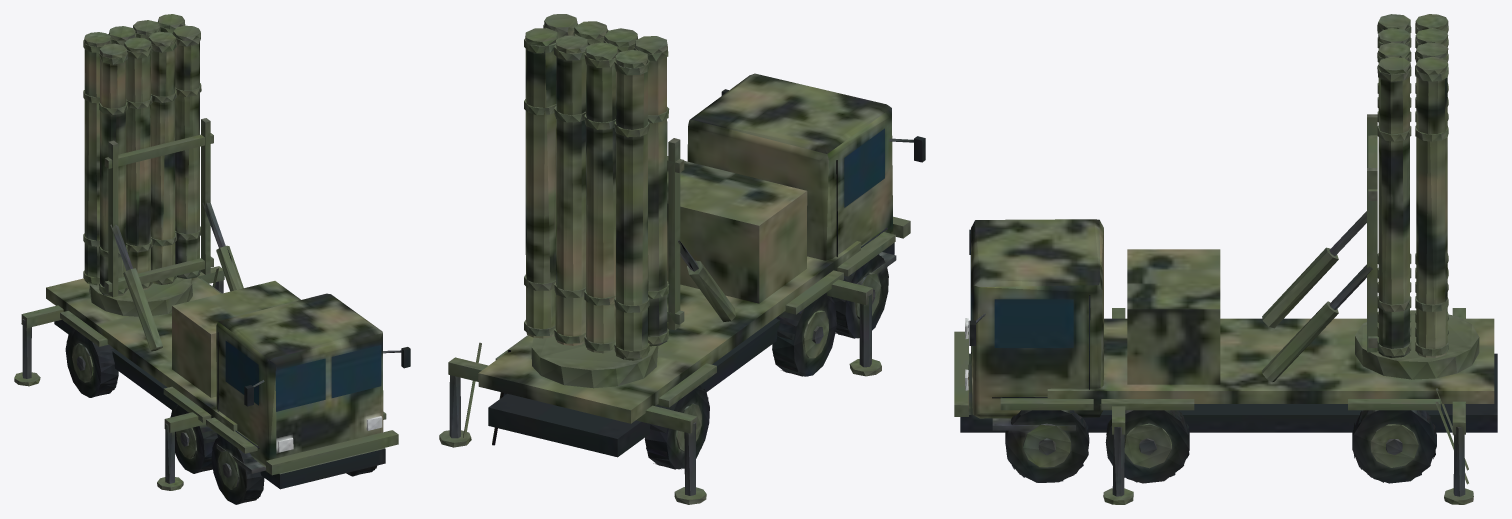
File: tower_aa_3.glb
3 views of the same model, side by side, from view 1: azimuth 30°, elevation 25°; view 2: azimuth 150°, elevation 25°; view 3: azimuth 270°, elevation 25° (orthographic). The views are drawn at different scales.
Visible parts, largest first — view 1: LOW; view 2: LOW; view 3: LOW.
Part boxes in pixels (<box>): LOW: <box>14,14,410,504</box>; LOW: <box>439,14,925,504</box>; LOW: <box>954,14,1497,504</box>.
Bounding box in the file's own units: 4.52 × 6.84 × 8.37.
Materials: 1 (1 with a texture image).
